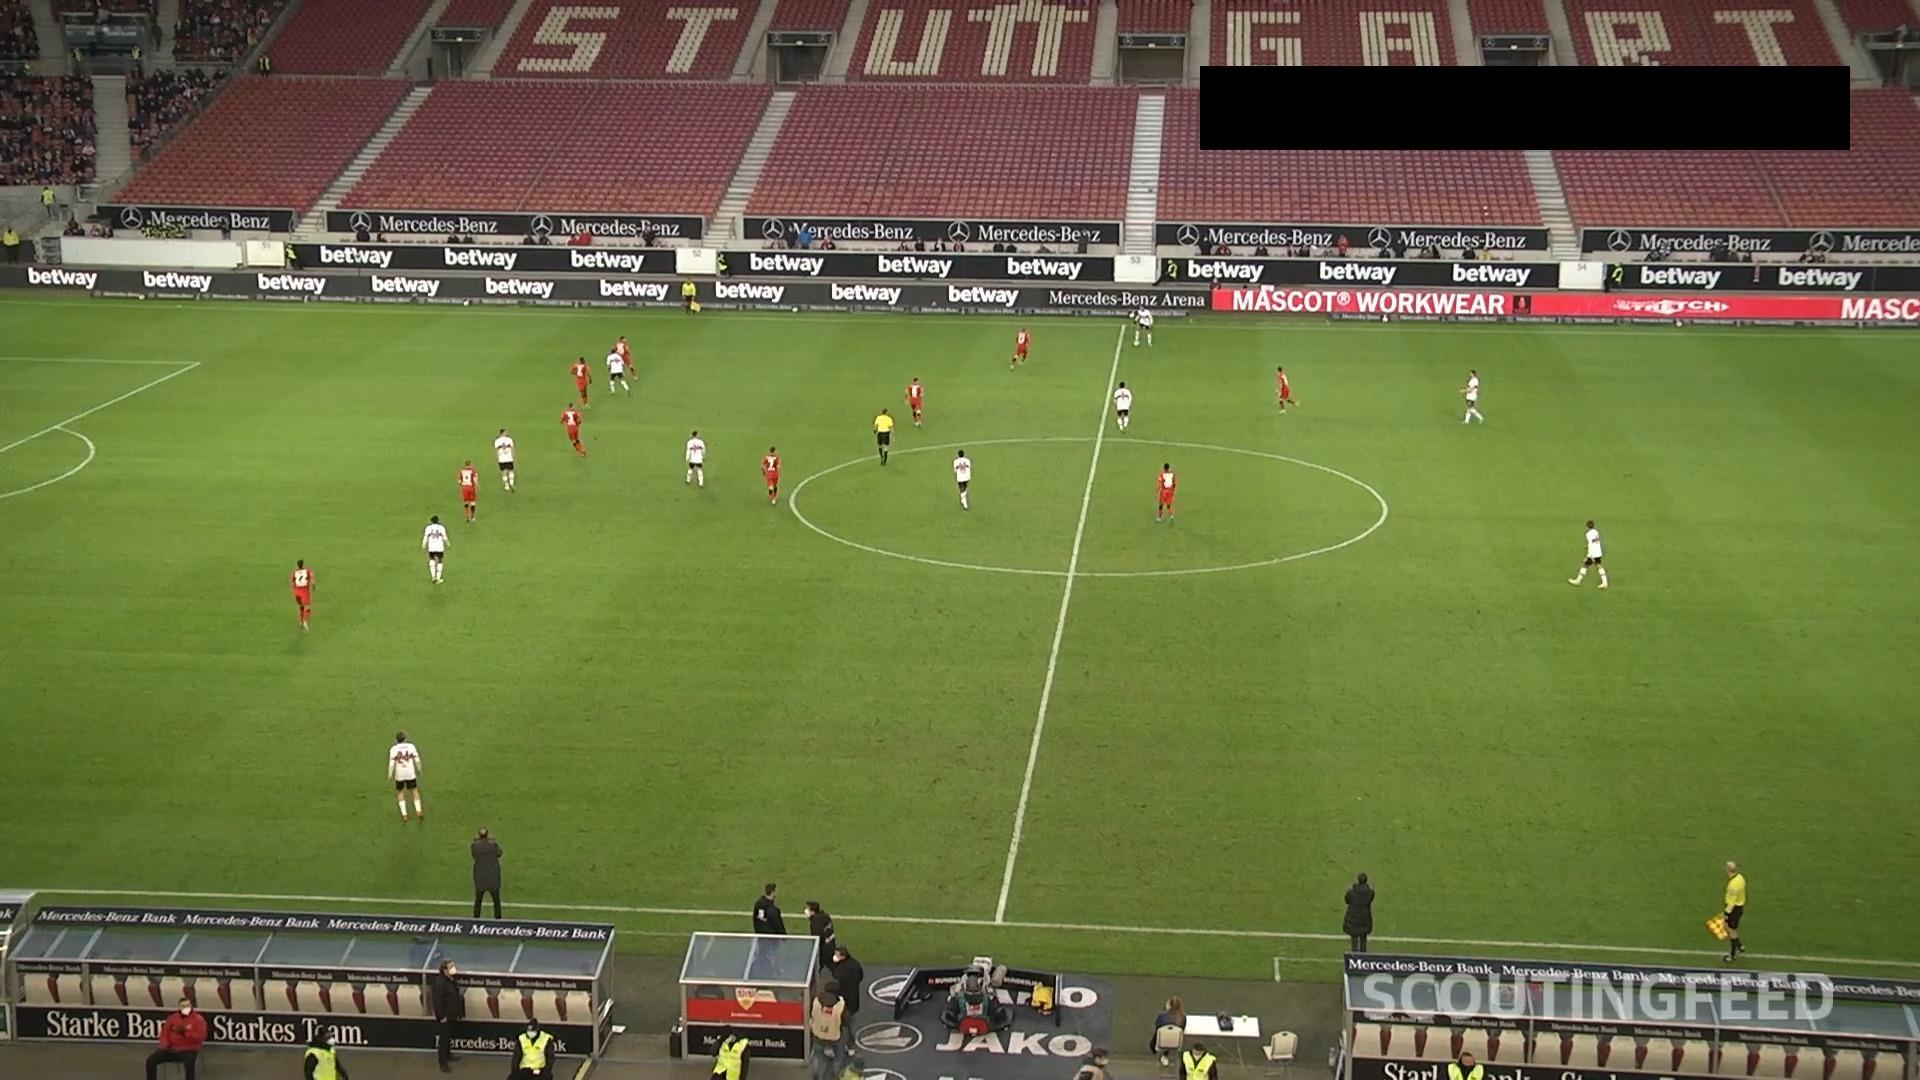ball: (1131, 338, 1142, 348)
